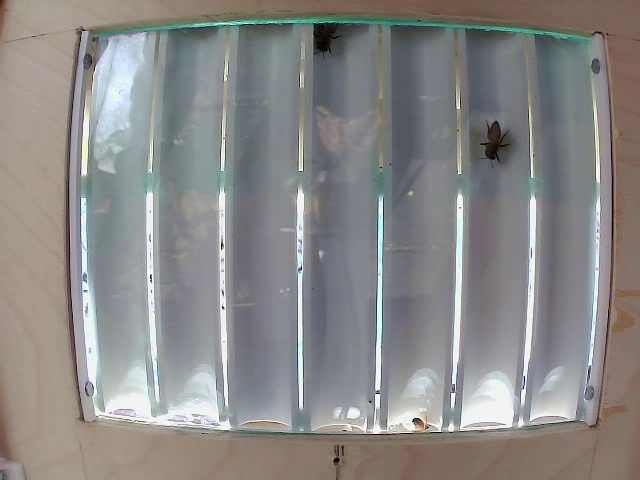bee: (482, 118, 512, 169), (318, 15, 345, 56)
